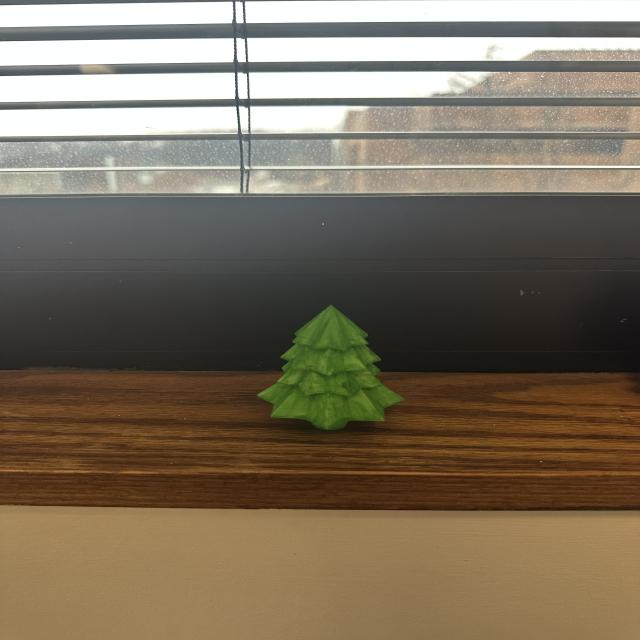tree: (255, 303, 406, 432)
